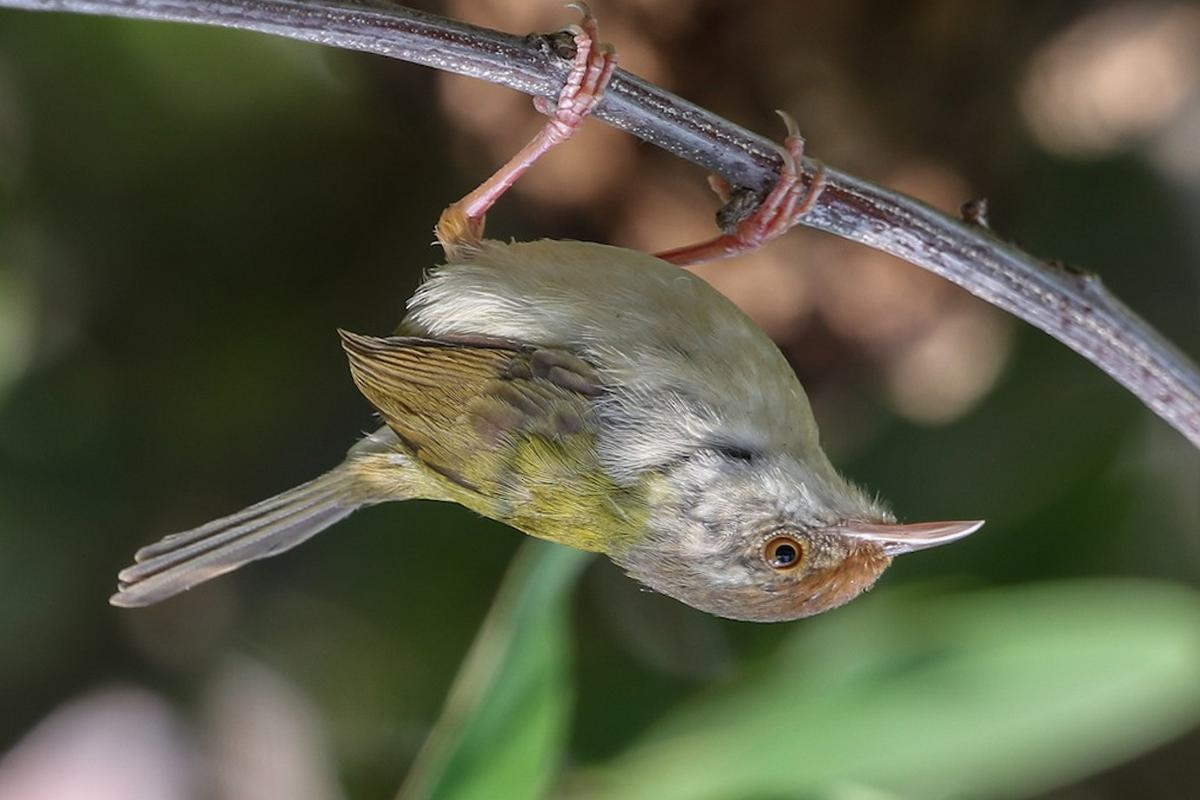tailorbird: (116, 97, 955, 648)
